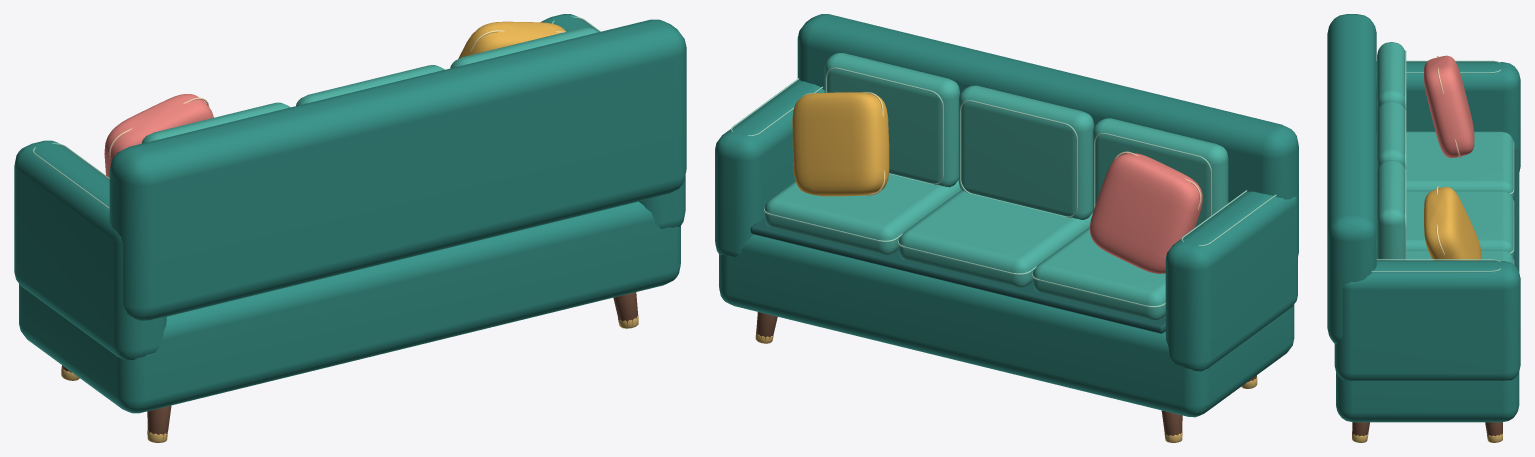
The model's file is living_sofa.glb.
The picture shows the model from 3 angles, left to right: view 1: azimuth 30°, elevation 25°; view 2: azimuth 150°, elevation 25°; view 3: azimuth 270°, elevation 25°; orthographic projection. The views are drawn at different scales.
Visible parts, largest first — view 1: Sofa back frame, Sofa upholstered base, Sofa rounded arm -1, Guava throw pillow, Marigold throw pillow, Sofa rounded arm 1, Back cushion 3, Back cushion 1, Back cushion 2; view 2: Sofa upholstered base, Sofa back frame, Sofa rounded arm -1, Back cushion 2, Seat cushion 2, Back cushion 3, Marigold throw pillow, Guava throw pillow, Sofa rounded arm 1, Seat cushion 3, Seat cushion 1, Back cushion 1 (+4 smaller); view 3: Sofa rounded arm 1, Sofa back frame, Sofa upholstered base, Seat cushion 1, Sofa rounded arm -1, Seat cushion 2, Guava throw pillow, Marigold throw pillow, Back cushion 3, Back cushion 1, Back cushion 2, Sofa shadow welt below seats (+6 smaller).
Part boxes in pixels (<box>): Sofa back frame: <box>109,19,686,320</box>; Sofa upholstered base: <box>19,201,680,413</box>; Sofa rounded arm -1: <box>14,140,166,360</box>; Guava throw pillow: <box>104,94,213,177</box>; Marigold throw pillow: <box>458,21,566,58</box>; Sofa rounded arm 1: <box>540,14,685,228</box>; Back cushion 3: <box>450,27,598,68</box>; Back cushion 1: <box>141,102,290,143</box>; Back cushion 2: <box>296,65,444,105</box>; Sofa upholstered base: <box>719,234,1294,417</box>; Sofa back frame: <box>797,14,1298,255</box>; Sofa rounded arm -1: <box>1165,191,1297,371</box>; Back cushion 2: <box>958,85,1094,219</box>; Seat cushion 2: <box>898,190,1092,287</box>; Back cushion 3: <box>824,53,960,187</box>; Marigold throw pillow: <box>792,92,889,196</box>; Guava throw pillow: <box>1089,153,1202,273</box>; Sofa rounded arm 1: <box>715,80,824,256</box>; Seat cushion 3: <box>764,173,961,254</box>; Seat cushion 1: <box>1032,227,1165,319</box>; Back cushion 1: <box>1092,118,1228,226</box>; Sofa rounded arm 1: <box>1334,261,1520,380</box>; Sofa back frame: <box>1327,14,1376,343</box>; Sofa upholstered base: <box>1336,372,1519,422</box>; Seat cushion 1: <box>1376,131,1513,198</box>; Sofa rounded arm -1: <box>1376,62,1520,171</box>; Seat cushion 2: <box>1376,190,1513,257</box>; Guava throw pillow: <box>1423,55,1474,157</box>; Marigold throw pillow: <box>1424,187,1481,260</box>; Back cushion 3: <box>1377,160,1404,260</box>; Back cushion 1: <box>1377,42,1404,113</box>; Back cushion 2: <box>1377,101,1404,172</box>; Sofa shadow welt below seats: <box>1513,148,1519,271</box>.
Size of the model in its own units: 2.25 by 1.13 by 0.8415.
